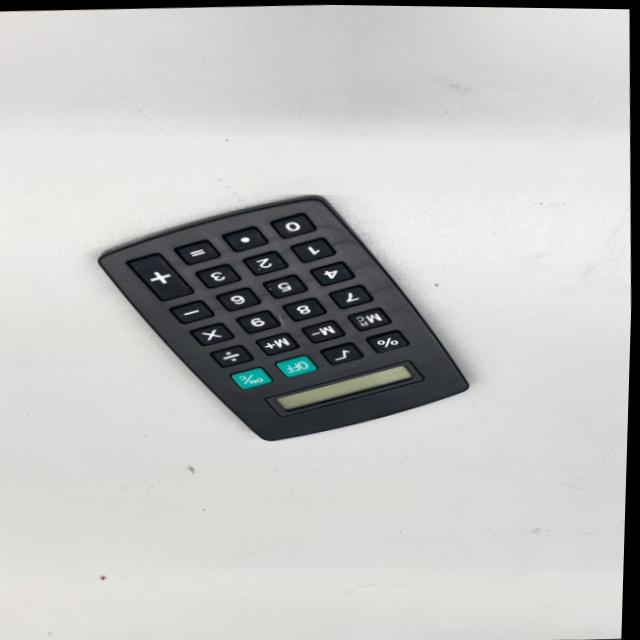calculator: (92, 186, 473, 458)
